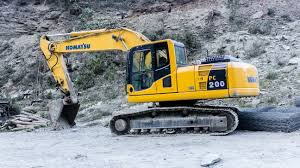excavator: (39, 25, 262, 138)
